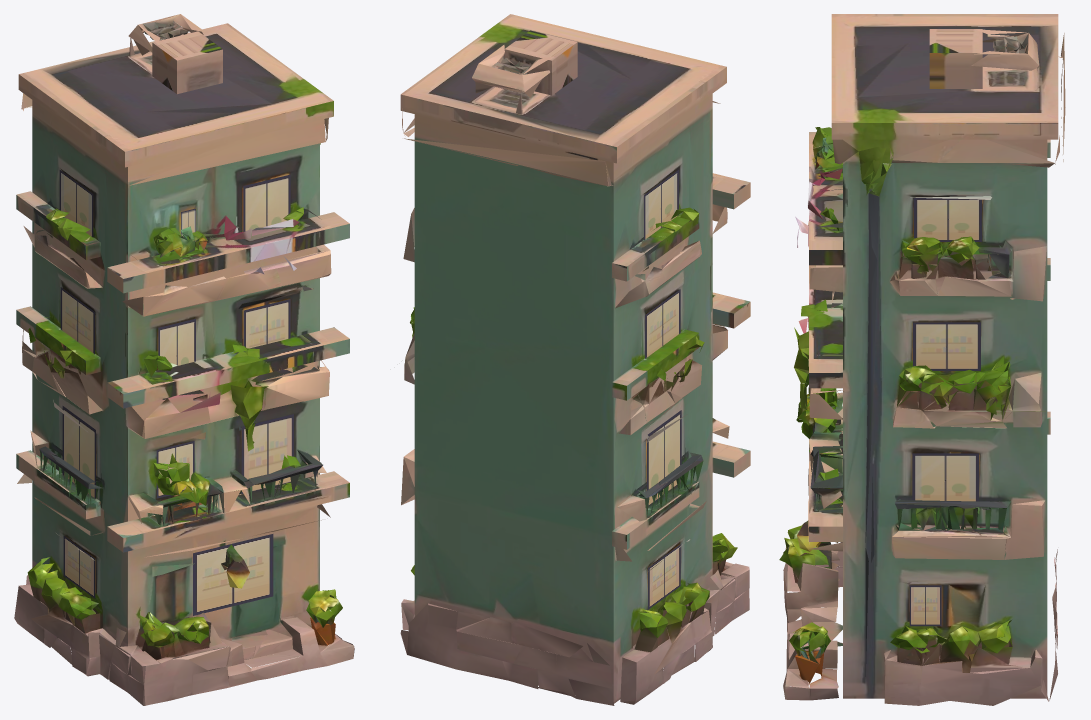
File: m11_01_apartment_r90.glb
The picture shows the model from 3 angles, left to right: view 1: azimuth 30°, elevation 25°; view 2: azimuth 150°, elevation 25°; view 3: azimuth 270°, elevation 25°; orthographic projection. The views are drawn at different scales.
Visible parts, largest first — view 1: shell, apartment_detail; view 2: shell, apartment_detail; view 3: shell, apartment_detail.
Part boxes in pixels (<box>): shell: <box>16,23,349,673</box>; apartment_detail: <box>14,14,354,705</box>; shell: <box>400,14,750,703</box>; apartment_detail: <box>400,45,749,705</box>; shell: <box>809,14,1058,698</box>; apartment_detail: <box>779,29,1065,705</box>.
Bounding box in the file's own units: 8.14 × 18.04 × 7.88.
4 materials, 4 textured.
